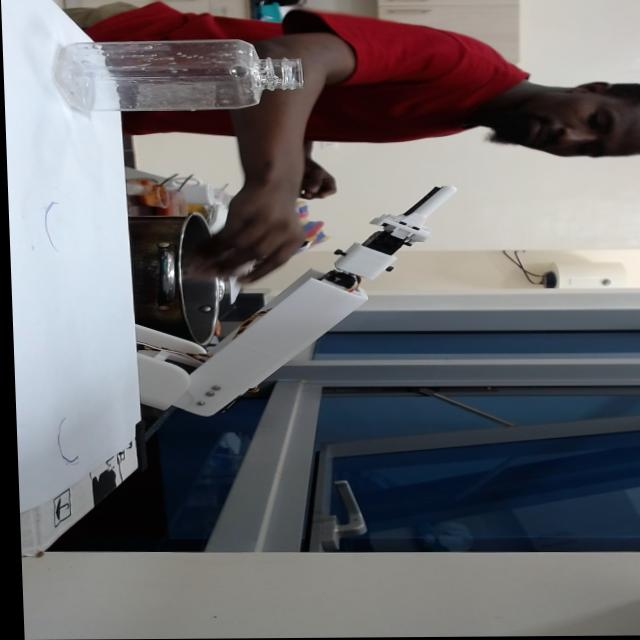cooking_pot: (125, 213, 219, 344)
